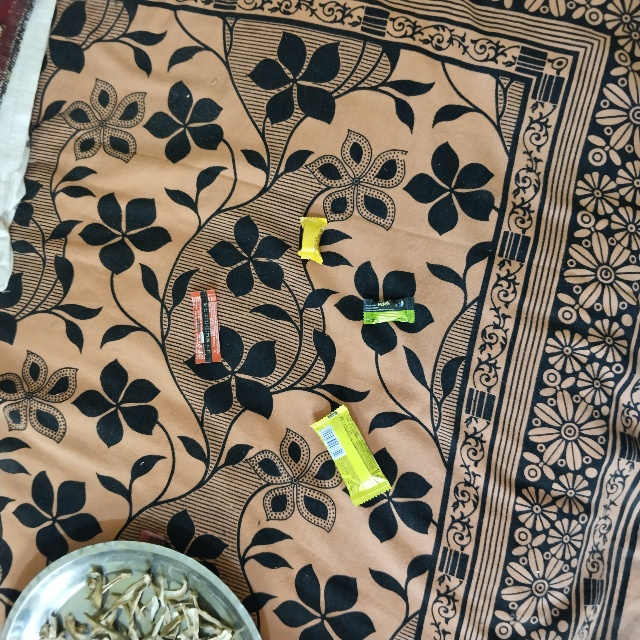Alpenlibe Creamfills: (300, 209, 327, 267)
Nescafe Coffee: (187, 286, 222, 364)
Orbit: (307, 422, 351, 529)
Pulse: (352, 289, 425, 333)
